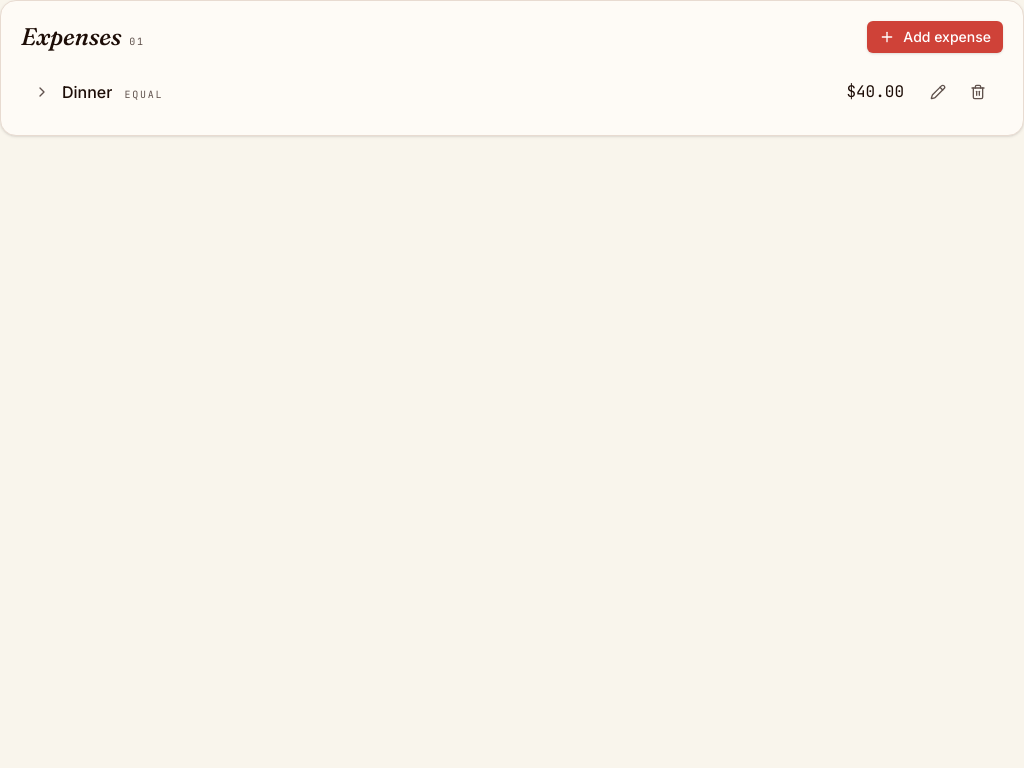
Scenario: ExpensesPanel — delete & undo › deletes immediately (no confirm dialog) and shows an undo toast
Click the button named "delete dinner" at coordinates (978, 92), box [960, 74, 996, 110]
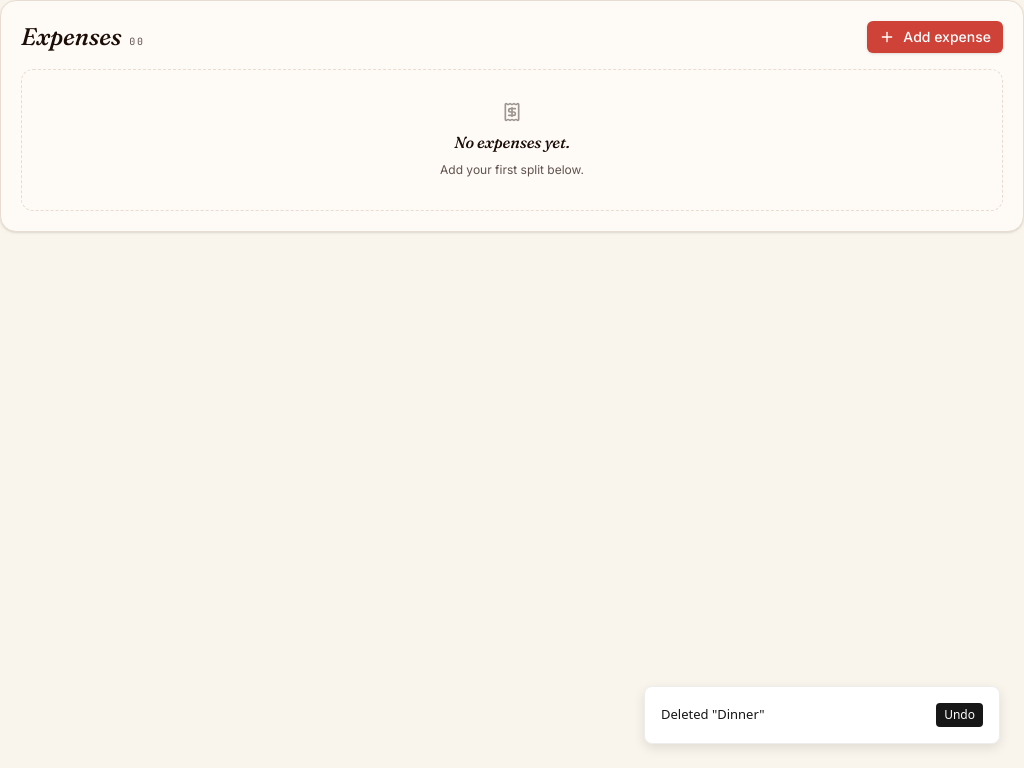
Expected: the text "Deleted \"Dinner\"" is shown, [661, 705, 765, 725]
Expected: the button "Undo" is shown, [936, 703, 983, 727]
